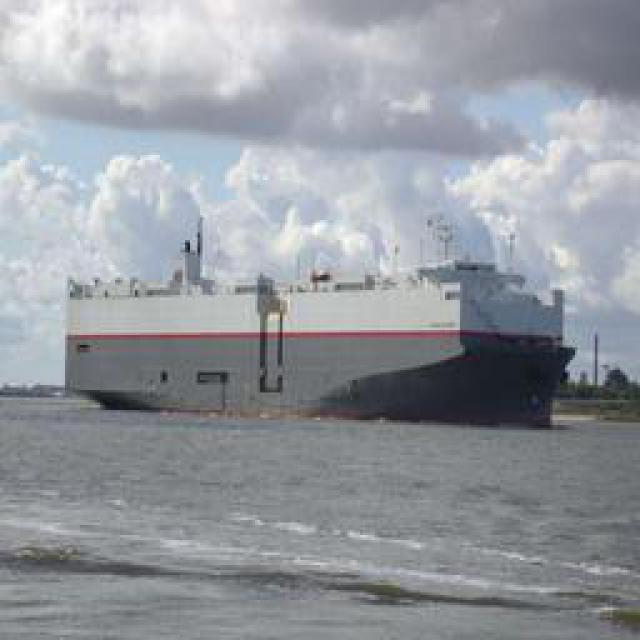Ship: (59, 222, 574, 420)
